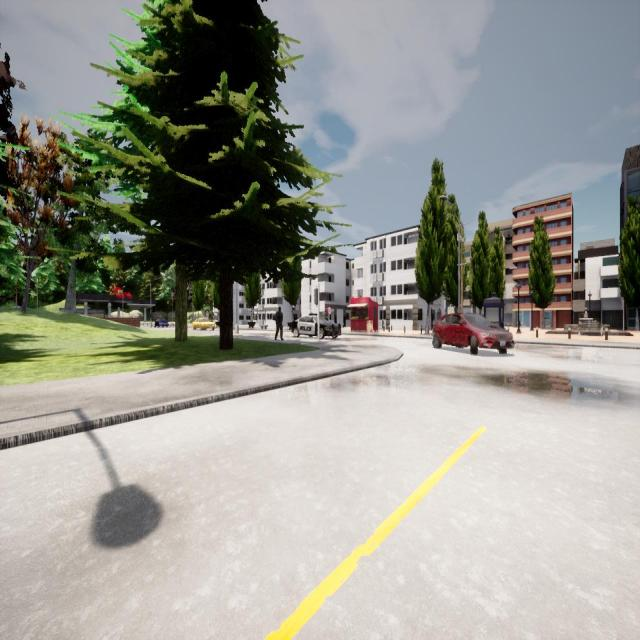Pedestrian: (273, 306, 283, 340)
Traffic_Signs: (326, 307, 332, 314), (206, 313, 209, 317)
Vehicle: (432, 313, 514, 354), (288, 316, 340, 338), (192, 318, 216, 332), (155, 317, 168, 328)
